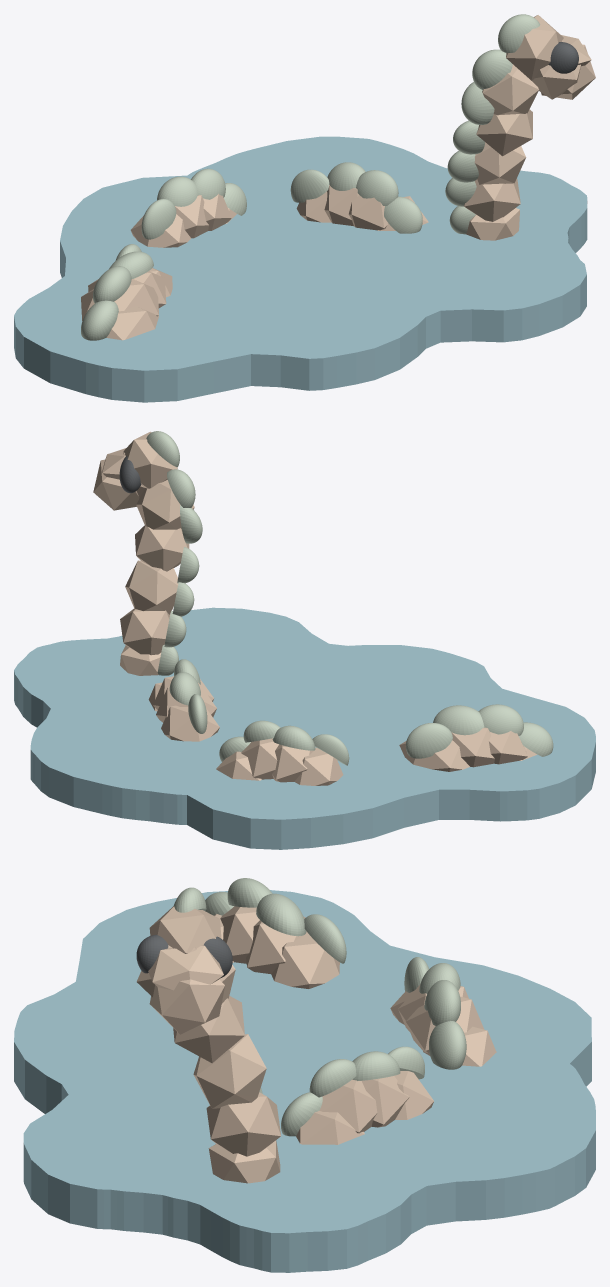
The model's file is Escocia.glb.
3 renders of one model, top to bottom at view 1: azimuth 30°, elevation 25°; view 2: azimuth 150°, elevation 25°; view 3: azimuth 270°, elevation 25°, orthographic. The views are drawn at different scales.
Parts seen in each view (by area): view 1: Mesh_Mesh_head_geo.001_lambert2SG.001; view 2: Mesh_Mesh_head_geo.001_lambert2SG.001; view 3: Mesh_Mesh_head_geo.001_lambert2SG.001.
Boxes of the visible parts, x1,y1,x2,y2 form: Mesh_Mesh_head_geo.001_lambert2SG.001: (14,14,595,402); Mesh_Mesh_head_geo.001_lambert2SG.001: (14,431,595,849); Mesh_Mesh_head_geo.001_lambert2SG.001: (14,878,595,1272).
Size of the model in its own units: 0.186 by 0.0814 by 0.133.
